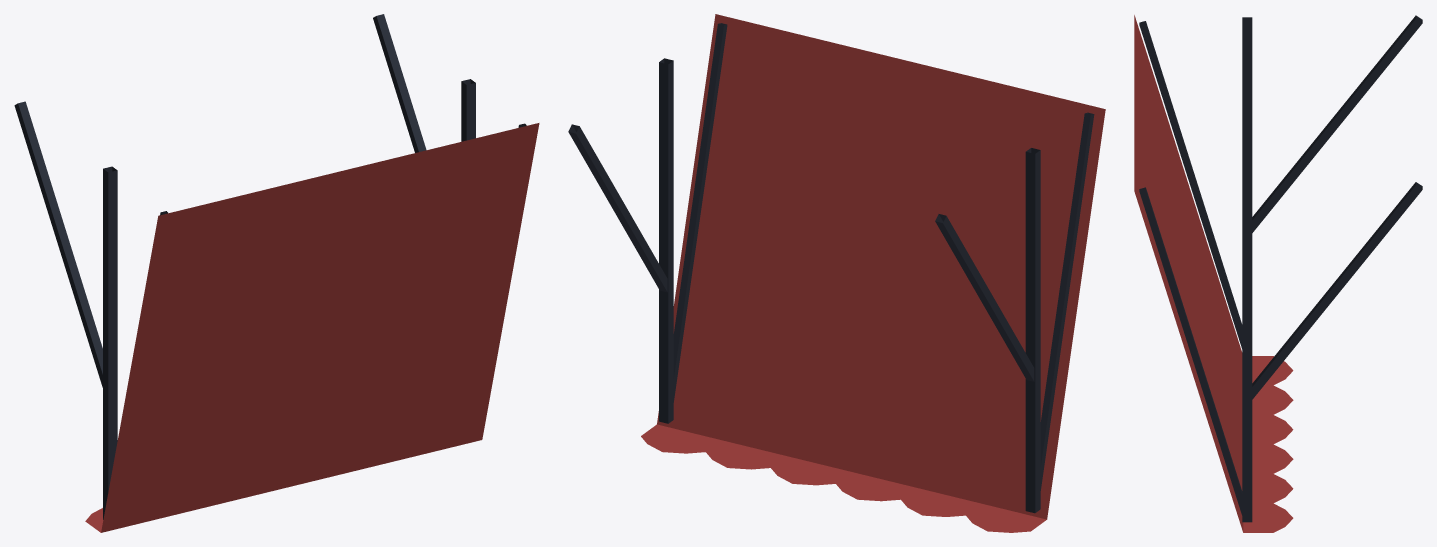
File: keep-wd01_136.obj
The picture shows the model from 3 angles, left to right: view 1: azimuth 30°, elevation 25°; view 2: azimuth 150°, elevation 25°; view 3: azimuth 270°, elevation 25°; orthographic projection. The views are drawn at different scales.
Size of the model in its own units: 1 by 0.9059 by 0.6881.
Materials: 1 (1 with a texture image).
